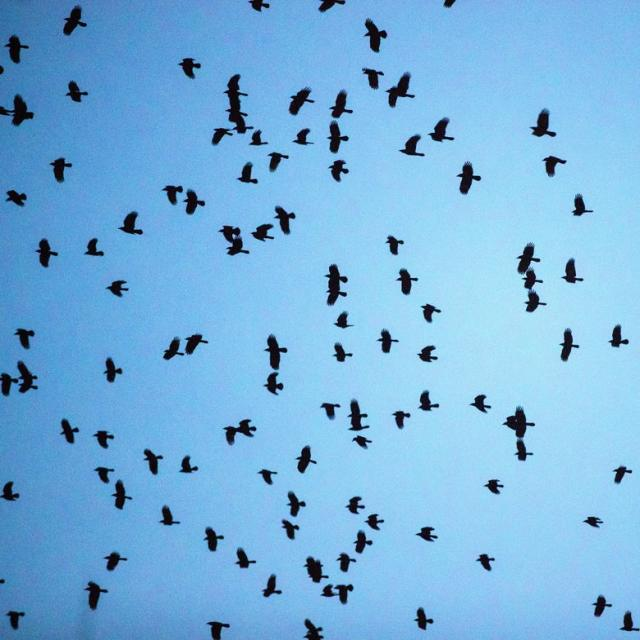bird: (387, 71, 415, 108), (327, 266, 350, 307), (504, 408, 535, 438), (531, 110, 560, 141), (365, 18, 389, 53), (266, 334, 290, 369), (218, 223, 246, 253), (287, 86, 313, 118), (458, 162, 482, 196), (348, 398, 372, 432), (16, 361, 40, 395), (4, 35, 30, 66), (11, 94, 35, 127), (62, 6, 87, 37), (395, 268, 420, 298), (328, 122, 350, 156), (562, 328, 584, 362), (36, 238, 60, 269), (303, 556, 328, 585), (86, 582, 110, 612), (225, 73, 249, 103), (330, 90, 353, 121), (520, 242, 542, 274), (429, 118, 454, 146), (112, 482, 134, 513), (185, 190, 209, 218), (50, 156, 74, 184), (562, 258, 586, 286), (144, 448, 166, 478), (118, 212, 143, 238), (232, 418, 258, 443), (379, 328, 402, 356), (296, 445, 318, 474), (226, 105, 248, 134), (399, 135, 424, 160), (105, 550, 131, 574), (542, 156, 568, 180), (223, 236, 249, 260), (274, 208, 296, 236), (285, 489, 307, 517), (65, 80, 90, 104), (223, 422, 248, 446), (328, 158, 350, 185), (205, 528, 226, 556), (418, 389, 442, 413), (261, 573, 282, 600), (361, 67, 386, 89), (61, 420, 81, 447), (594, 595, 614, 622), (106, 358, 125, 386), (179, 58, 202, 81), (186, 334, 209, 357), (14, 326, 36, 350), (526, 290, 548, 314), (268, 151, 289, 176), (238, 161, 259, 186), (619, 610, 640, 635), (264, 371, 284, 397), (572, 193, 592, 219), (354, 531, 374, 557), (4, 189, 30, 209), (92, 465, 116, 486), (236, 548, 257, 572), (608, 325, 629, 349), (107, 278, 131, 299), (1, 479, 21, 504), (514, 439, 534, 464), (416, 606, 435, 632), (292, 125, 313, 148), (393, 409, 413, 433), (163, 337, 182, 362), (418, 343, 440, 364), (304, 619, 326, 640), (84, 237, 105, 259), (247, 128, 268, 150), (522, 269, 544, 290), (336, 552, 355, 576), (333, 343, 354, 364), (469, 393, 490, 414), (94, 429, 115, 450), (212, 127, 233, 148), (252, 222, 274, 242), (421, 302, 441, 324), (208, 621, 232, 639), (160, 503, 178, 527), (180, 454, 200, 475), (318, 402, 339, 422), (613, 466, 633, 487), (7, 610, 26, 632), (334, 583, 353, 605), (387, 236, 407, 256), (345, 496, 365, 516), (365, 512, 385, 532), (282, 519, 301, 540), (416, 525, 438, 543), (1, 372, 16, 398), (258, 469, 278, 488), (162, 186, 181, 206), (333, 309, 352, 329), (320, 0, 348, 13), (478, 553, 496, 573), (484, 478, 504, 496), (582, 514, 604, 530), (352, 436, 374, 451), (248, 0, 273, 12), (318, 584, 334, 600), (0, 576, 6, 588)
